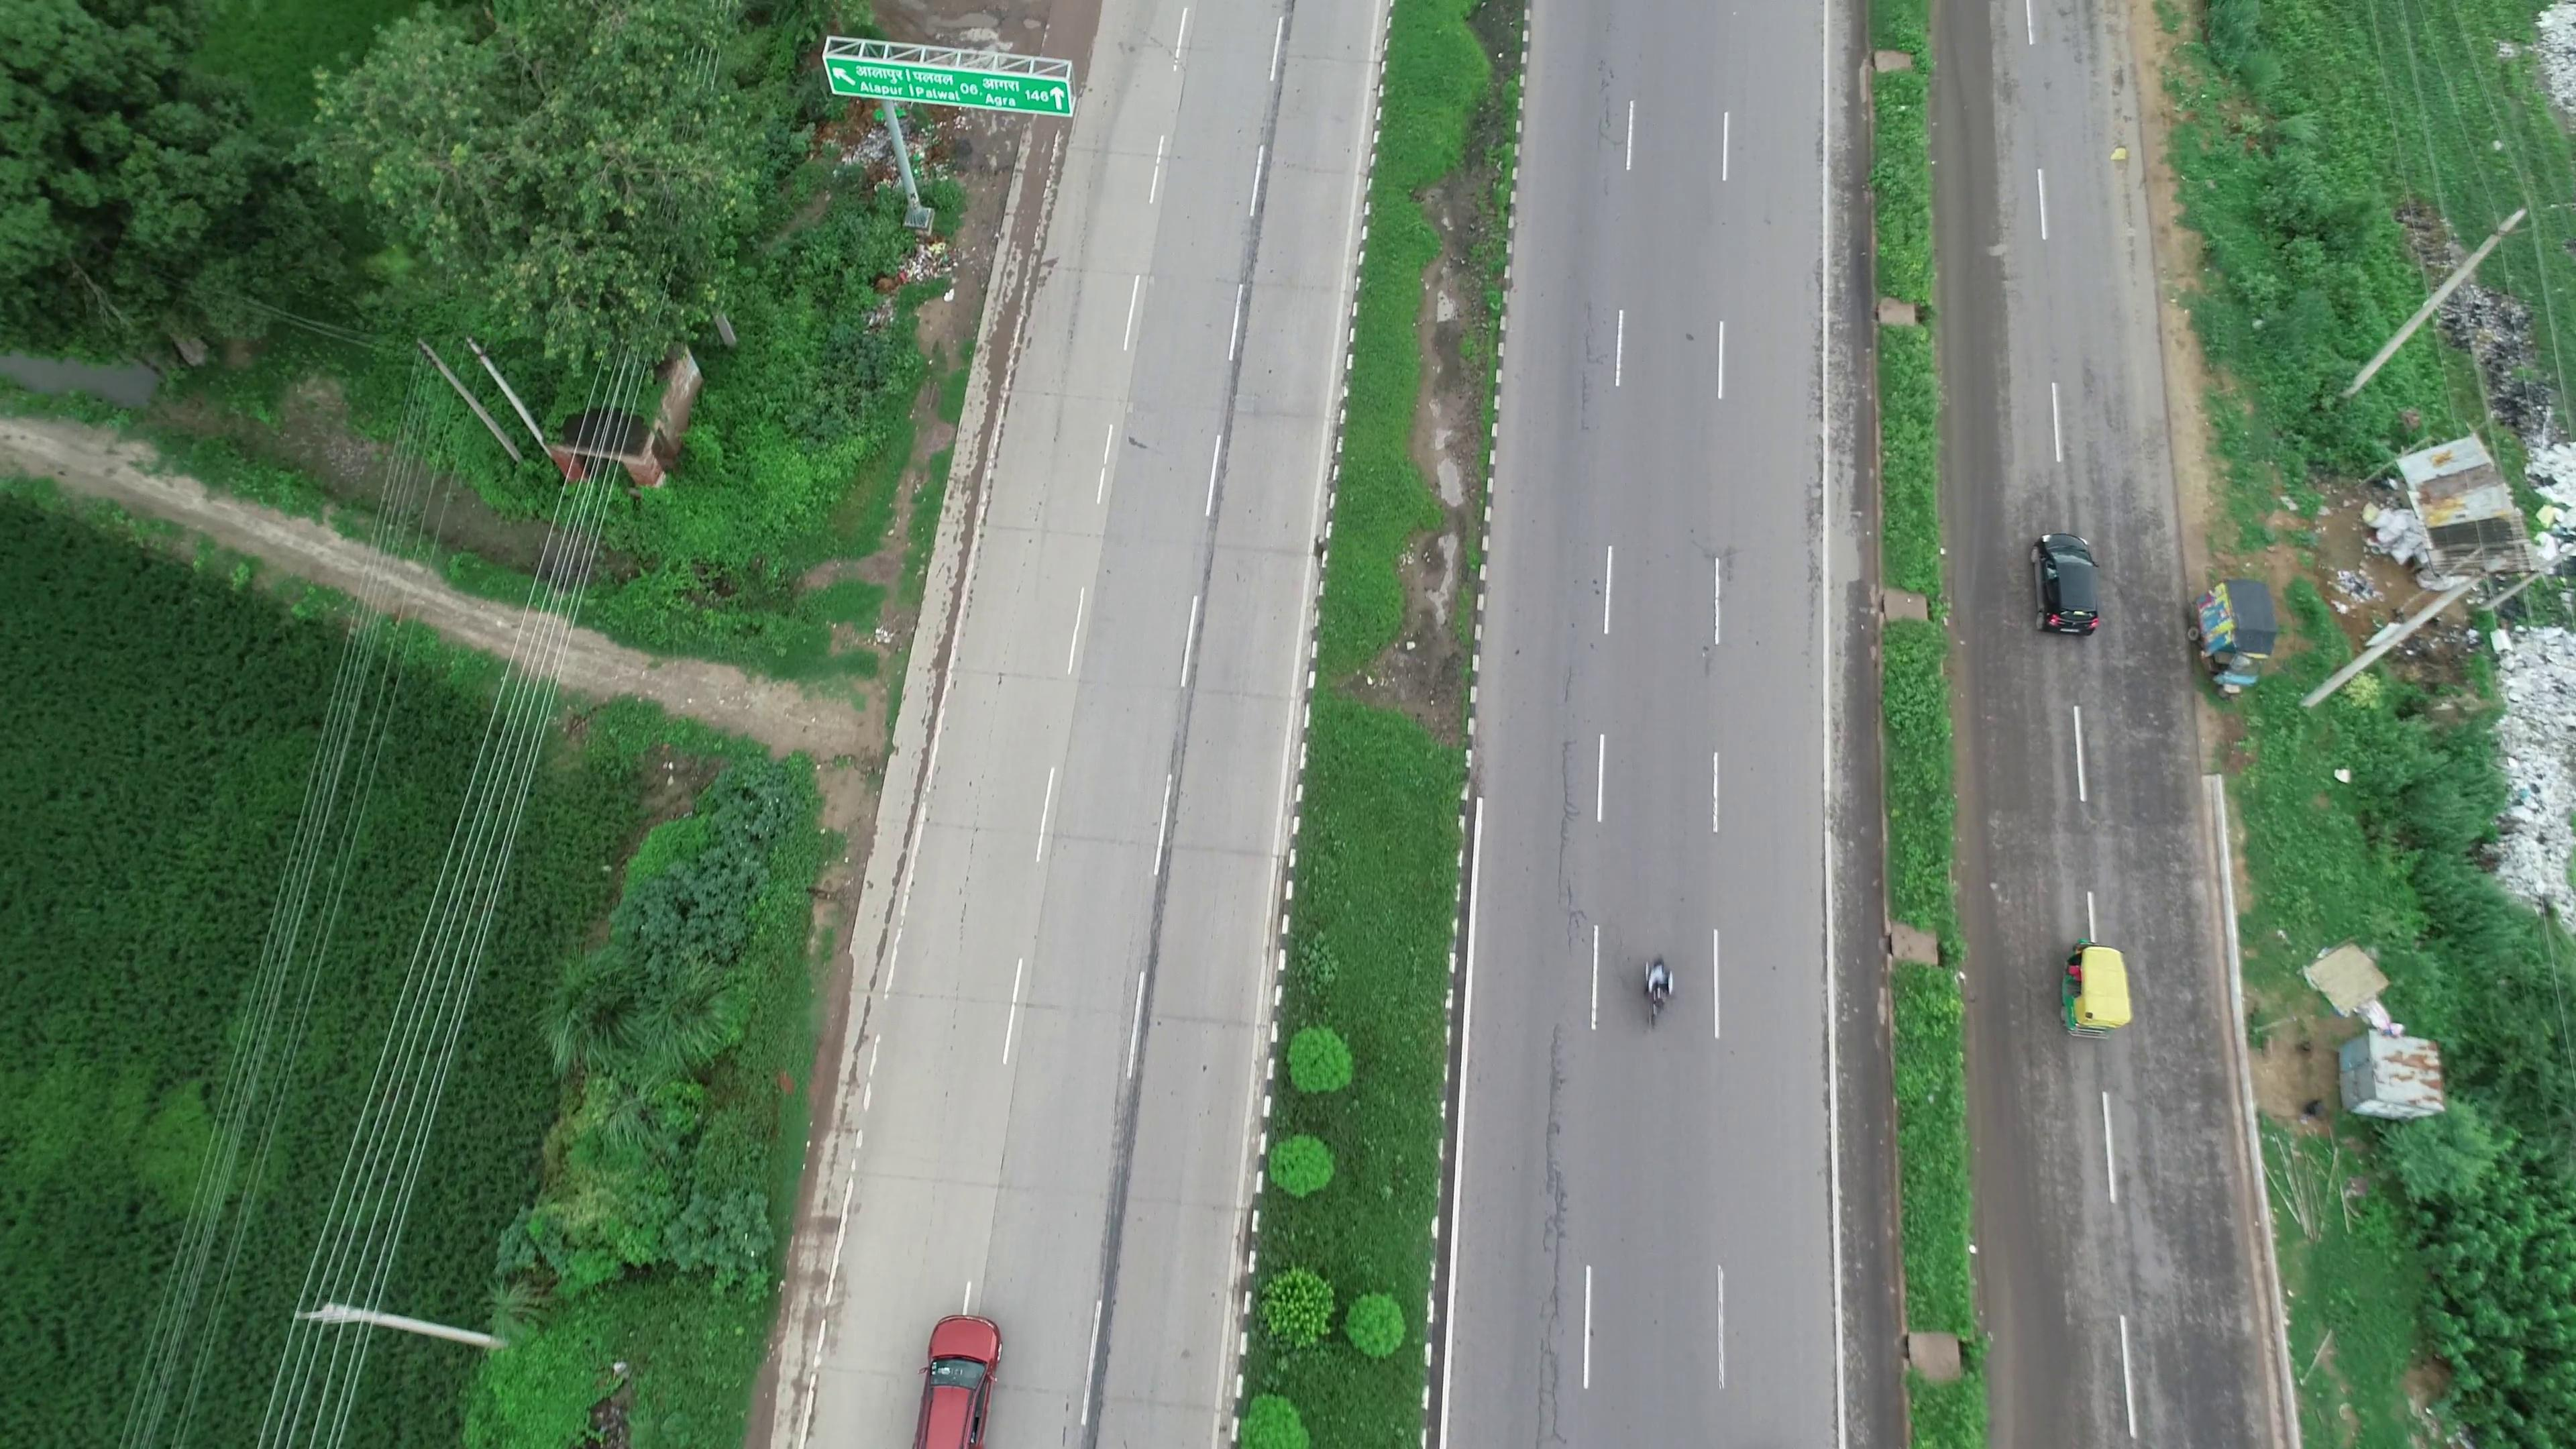Longitudinal_cracks: (1520, 665, 1583, 1430)
